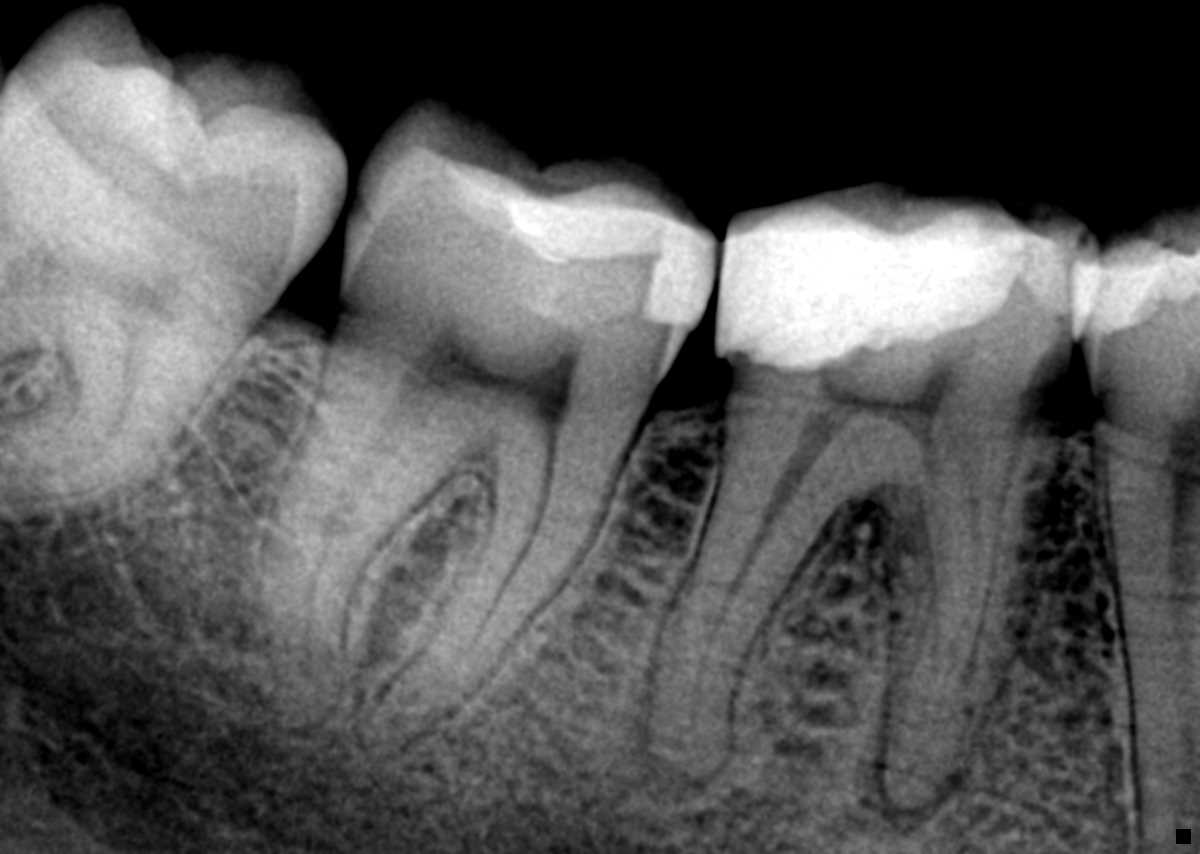Apical Lesion: (855, 714, 966, 835), (618, 688, 720, 811)
Distal Canal: (301, 384, 428, 698), (694, 427, 824, 727)
Distal Root: (651, 408, 875, 776), (260, 343, 466, 729)
Main Canal: (1170, 446, 1197, 817)
Main Root: (1095, 418, 1200, 854)
Mesial Canal: (451, 427, 558, 679), (22, 359, 145, 482)
Mesial Root: (360, 430, 625, 759), (885, 459, 1051, 804), (0, 344, 201, 512)
